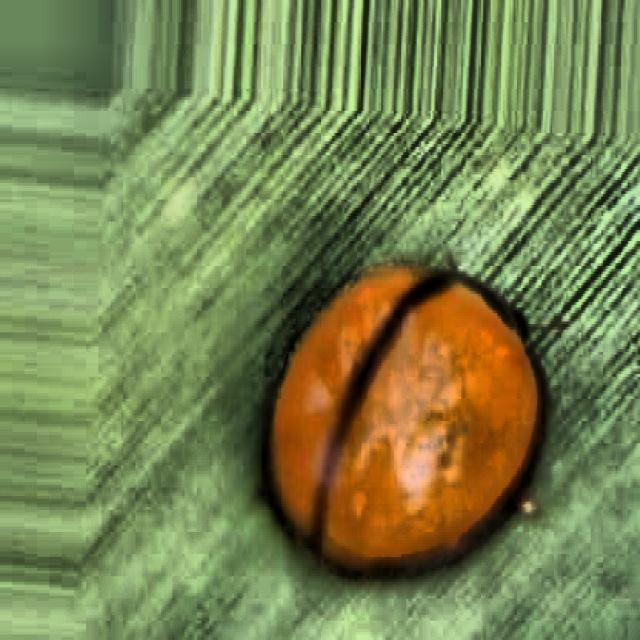Ladybug: (202, 177, 590, 630)
